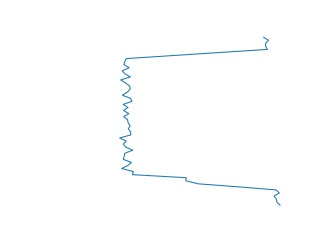distributaryChannelFill: (116, 36, 286, 208)
